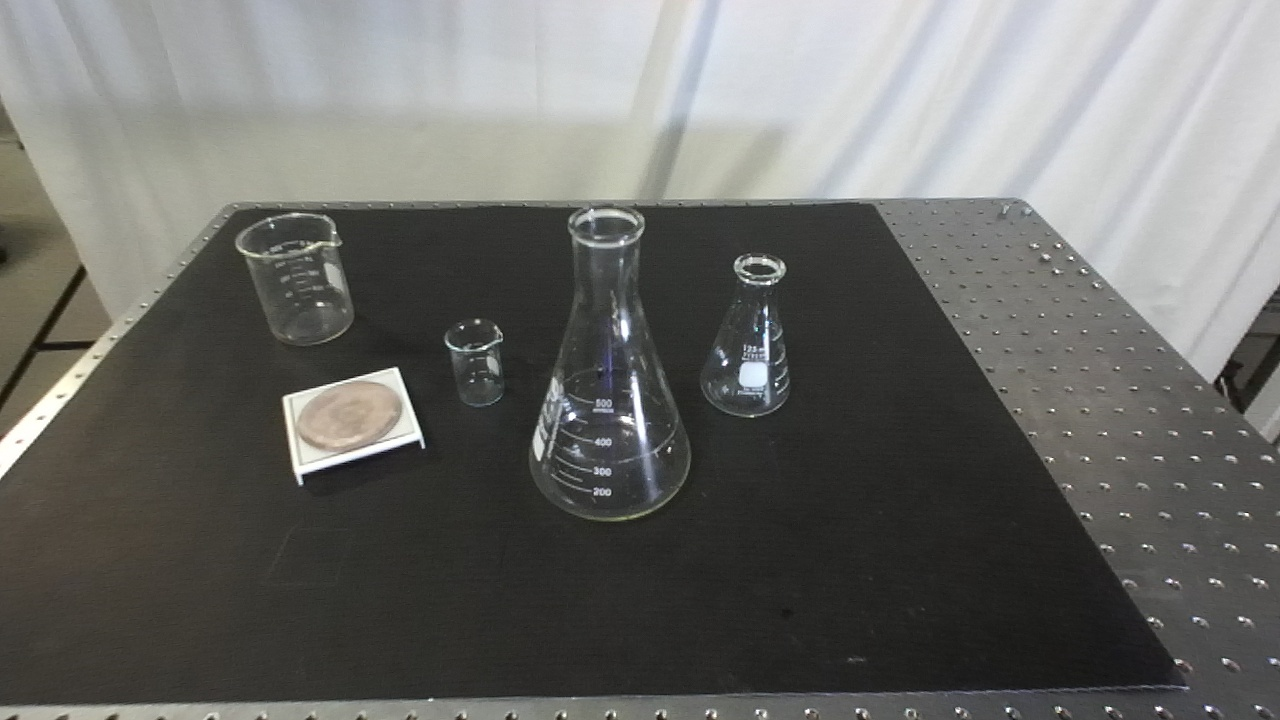glass: (524, 204, 693, 524), (233, 213, 359, 352), (701, 246, 795, 422), (442, 316, 510, 409)
plate: (277, 363, 427, 491)
